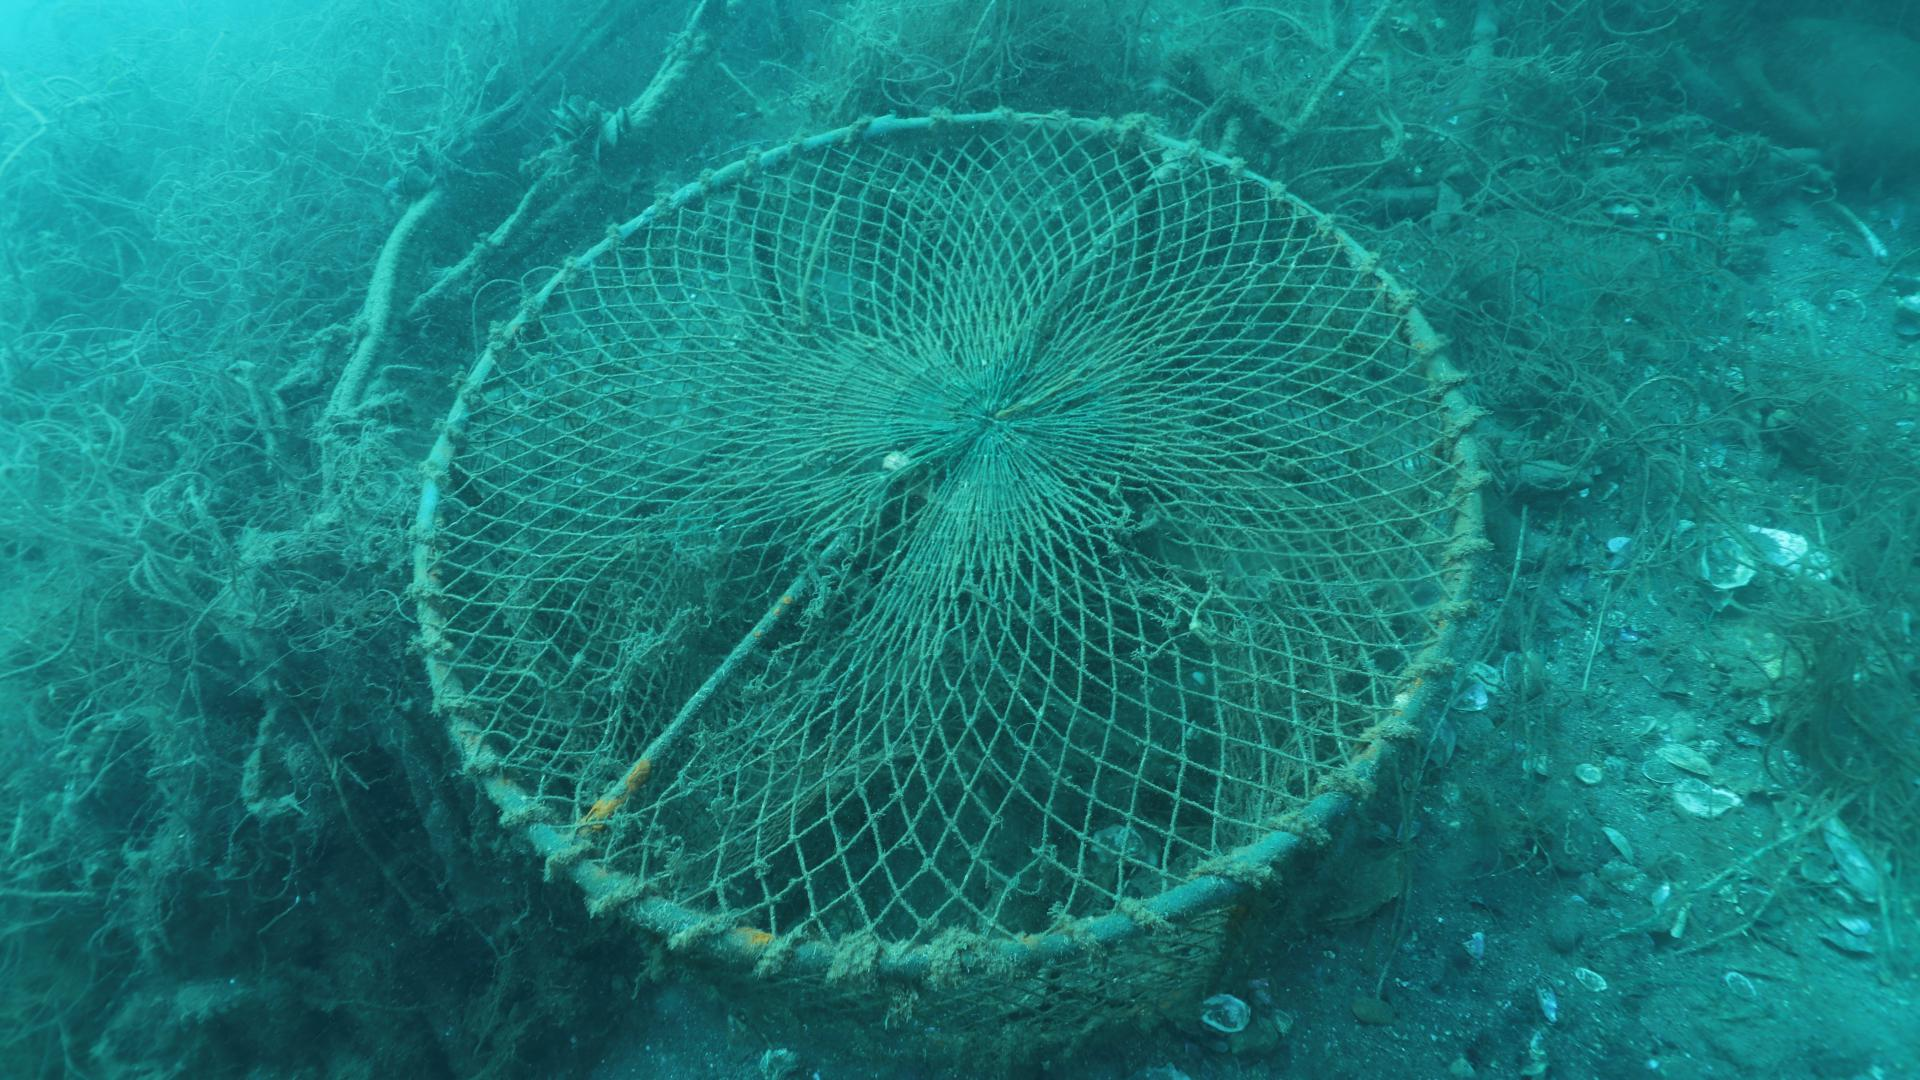circular fish trap: (407, 109, 1487, 1080)
